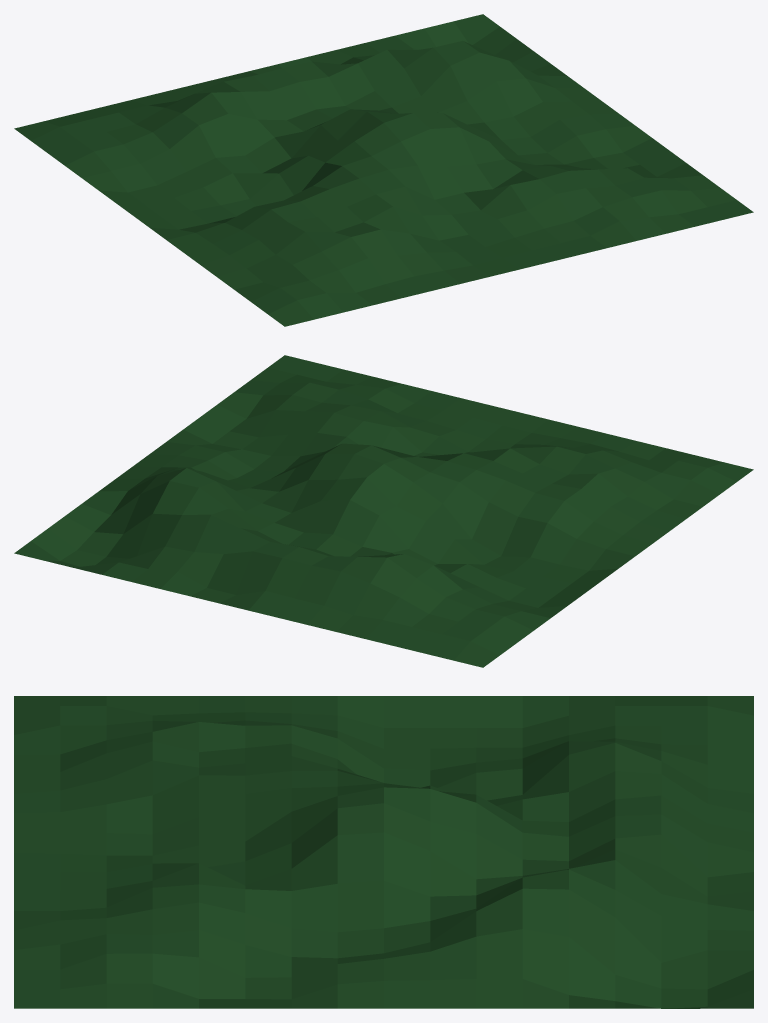
File: Terrain_26_Dark_Green.fbx
3 renders of one model, top to bottom at view 1: azimuth 30°, elevation 25°; view 2: azimuth 150°, elevation 25°; view 3: azimuth 270°, elevation 25°, orthographic. The views are drawn at different scales.
Parts seen in each view (by area): view 1: Terrain_26_Dark_Green; view 2: Terrain_26_Dark_Green; view 3: Terrain_26_Dark_Green.
Part boxes in pixels (box(x1,y1,x2,y2)): Terrain_26_Dark_Green: box(14, 14, 753, 326); Terrain_26_Dark_Green: box(14, 355, 753, 667); Terrain_26_Dark_Green: box(14, 696, 753, 1008).
Size of the model in its own units: 5000 by 676 by 5000.
